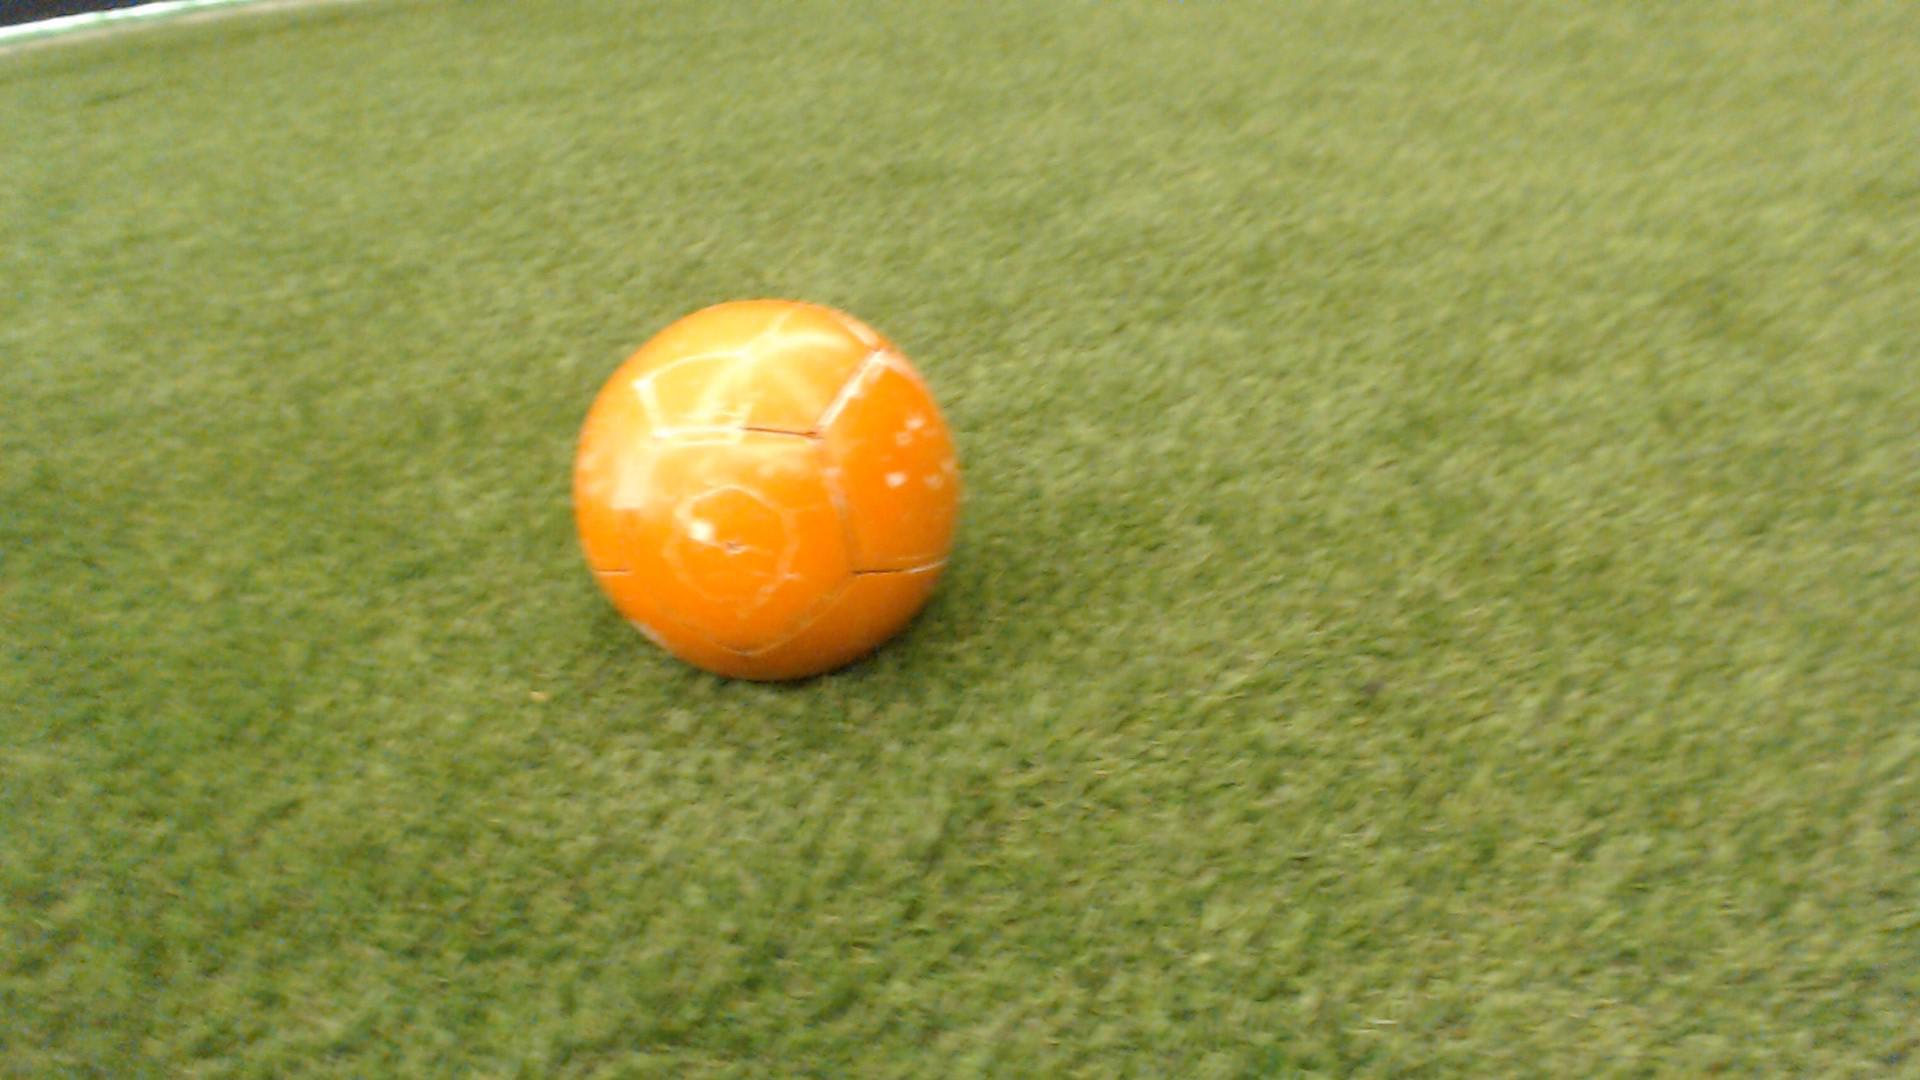bola: (554, 276, 998, 702)
